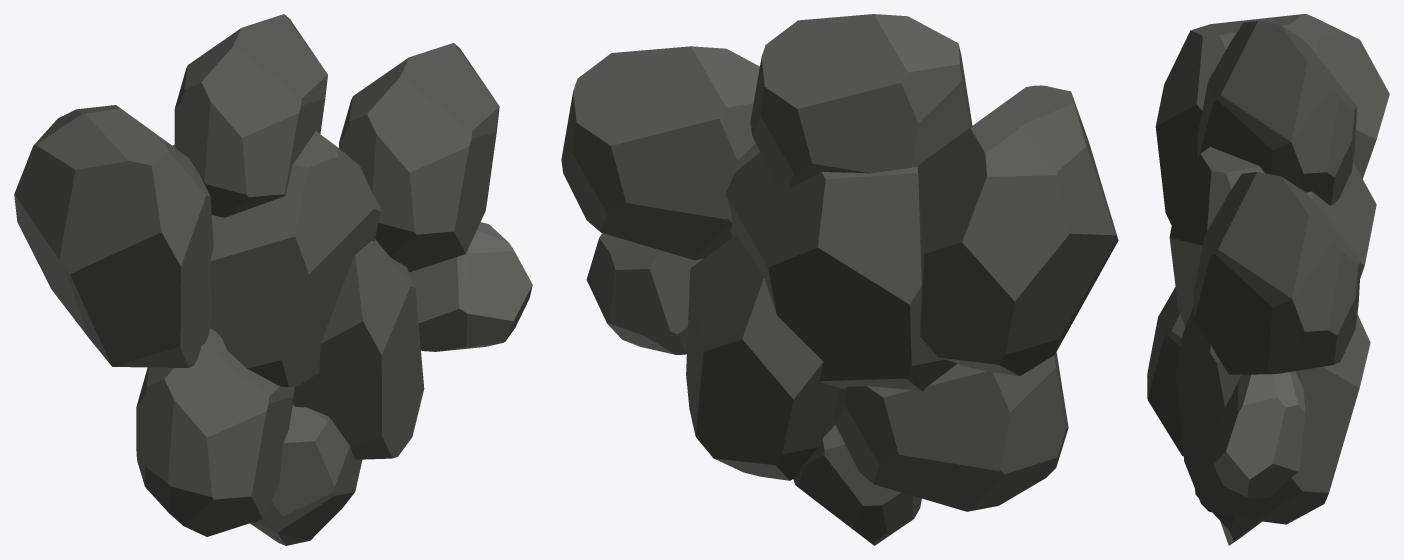
The model's file is SM_Envr_Nature_Rock_Group_01.fbx.
3 views of the same model, side by side, from view 1: azimuth 30°, elevation 25°; view 2: azimuth 150°, elevation 25°; view 3: azimuth 270°, elevation 25° (orthographic). The views are drawn at different scales.
Visible parts, largest first — view 1: SM_Envr_Nature_Rock_Group_01; view 2: SM_Envr_Nature_Rock_Group_01; view 3: SM_Envr_Nature_Rock_Group_01.
Boxes of the visible parts, x1=… form: SM_Envr_Nature_Rock_Group_01: x1=14, y1=14, x2=532, y2=545; SM_Envr_Nature_Rock_Group_01: x1=561, y1=14, x2=1118, y2=545; SM_Envr_Nature_Rock_Group_01: x1=1147, y1=14, x2=1389, y2=545.
Bounding box in the file's own units: 195 × 199 × 86.71.
